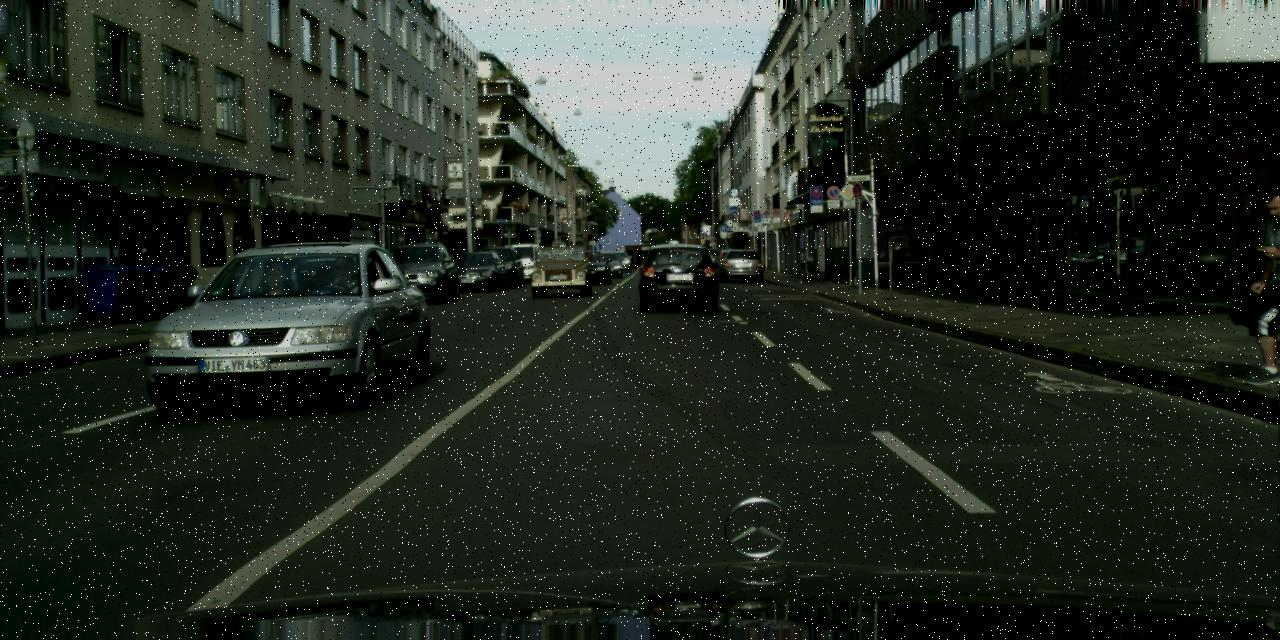ped: (1237, 187, 1279, 380)
